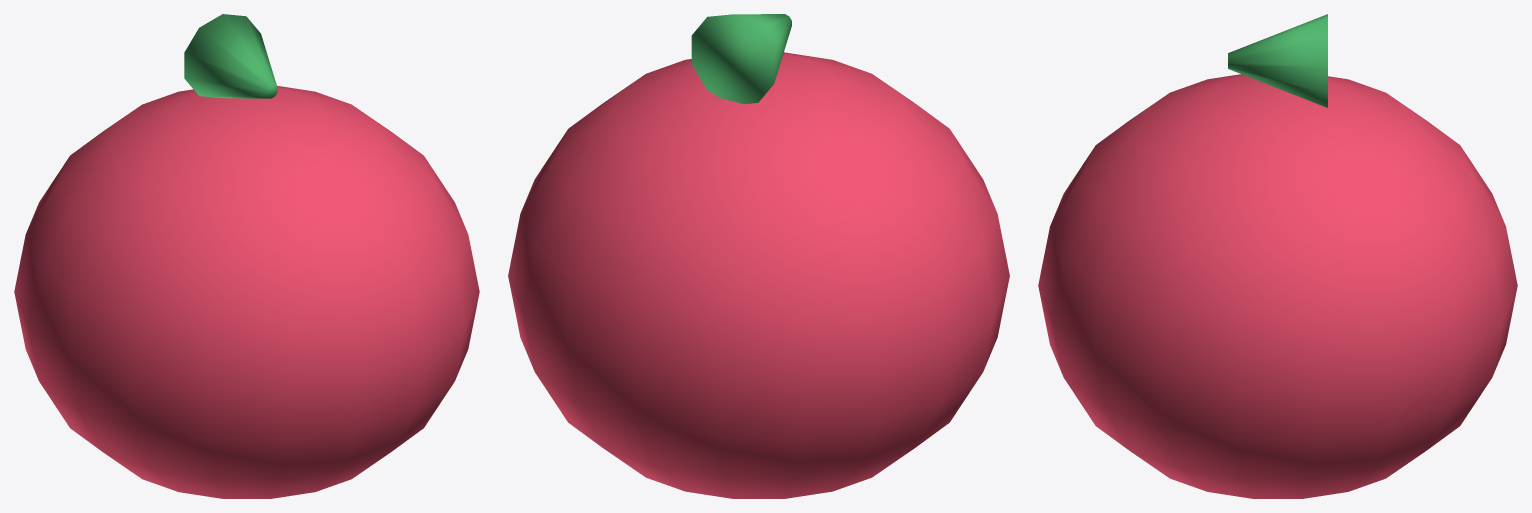
The model's file is tomato.glb.
3 views of the same model, side by side, from view 1: azimuth 30°, elevation 25°; view 2: azimuth 150°, elevation 25°; view 3: azimuth 270°, elevation 25° (orthographic). The views are drawn at different scales.
Parts seen in each view (by area): view 1: tomato; view 2: tomato; view 3: tomato.
Boxes of the visible parts, x1,y1,x2,y2 form: tomato: (14,14,479,498); tomato: (508,14,1009,498); tomato: (1038,14,1517,498).
Size of the model in its own units: 0.65 by 0.6974 by 0.66.
